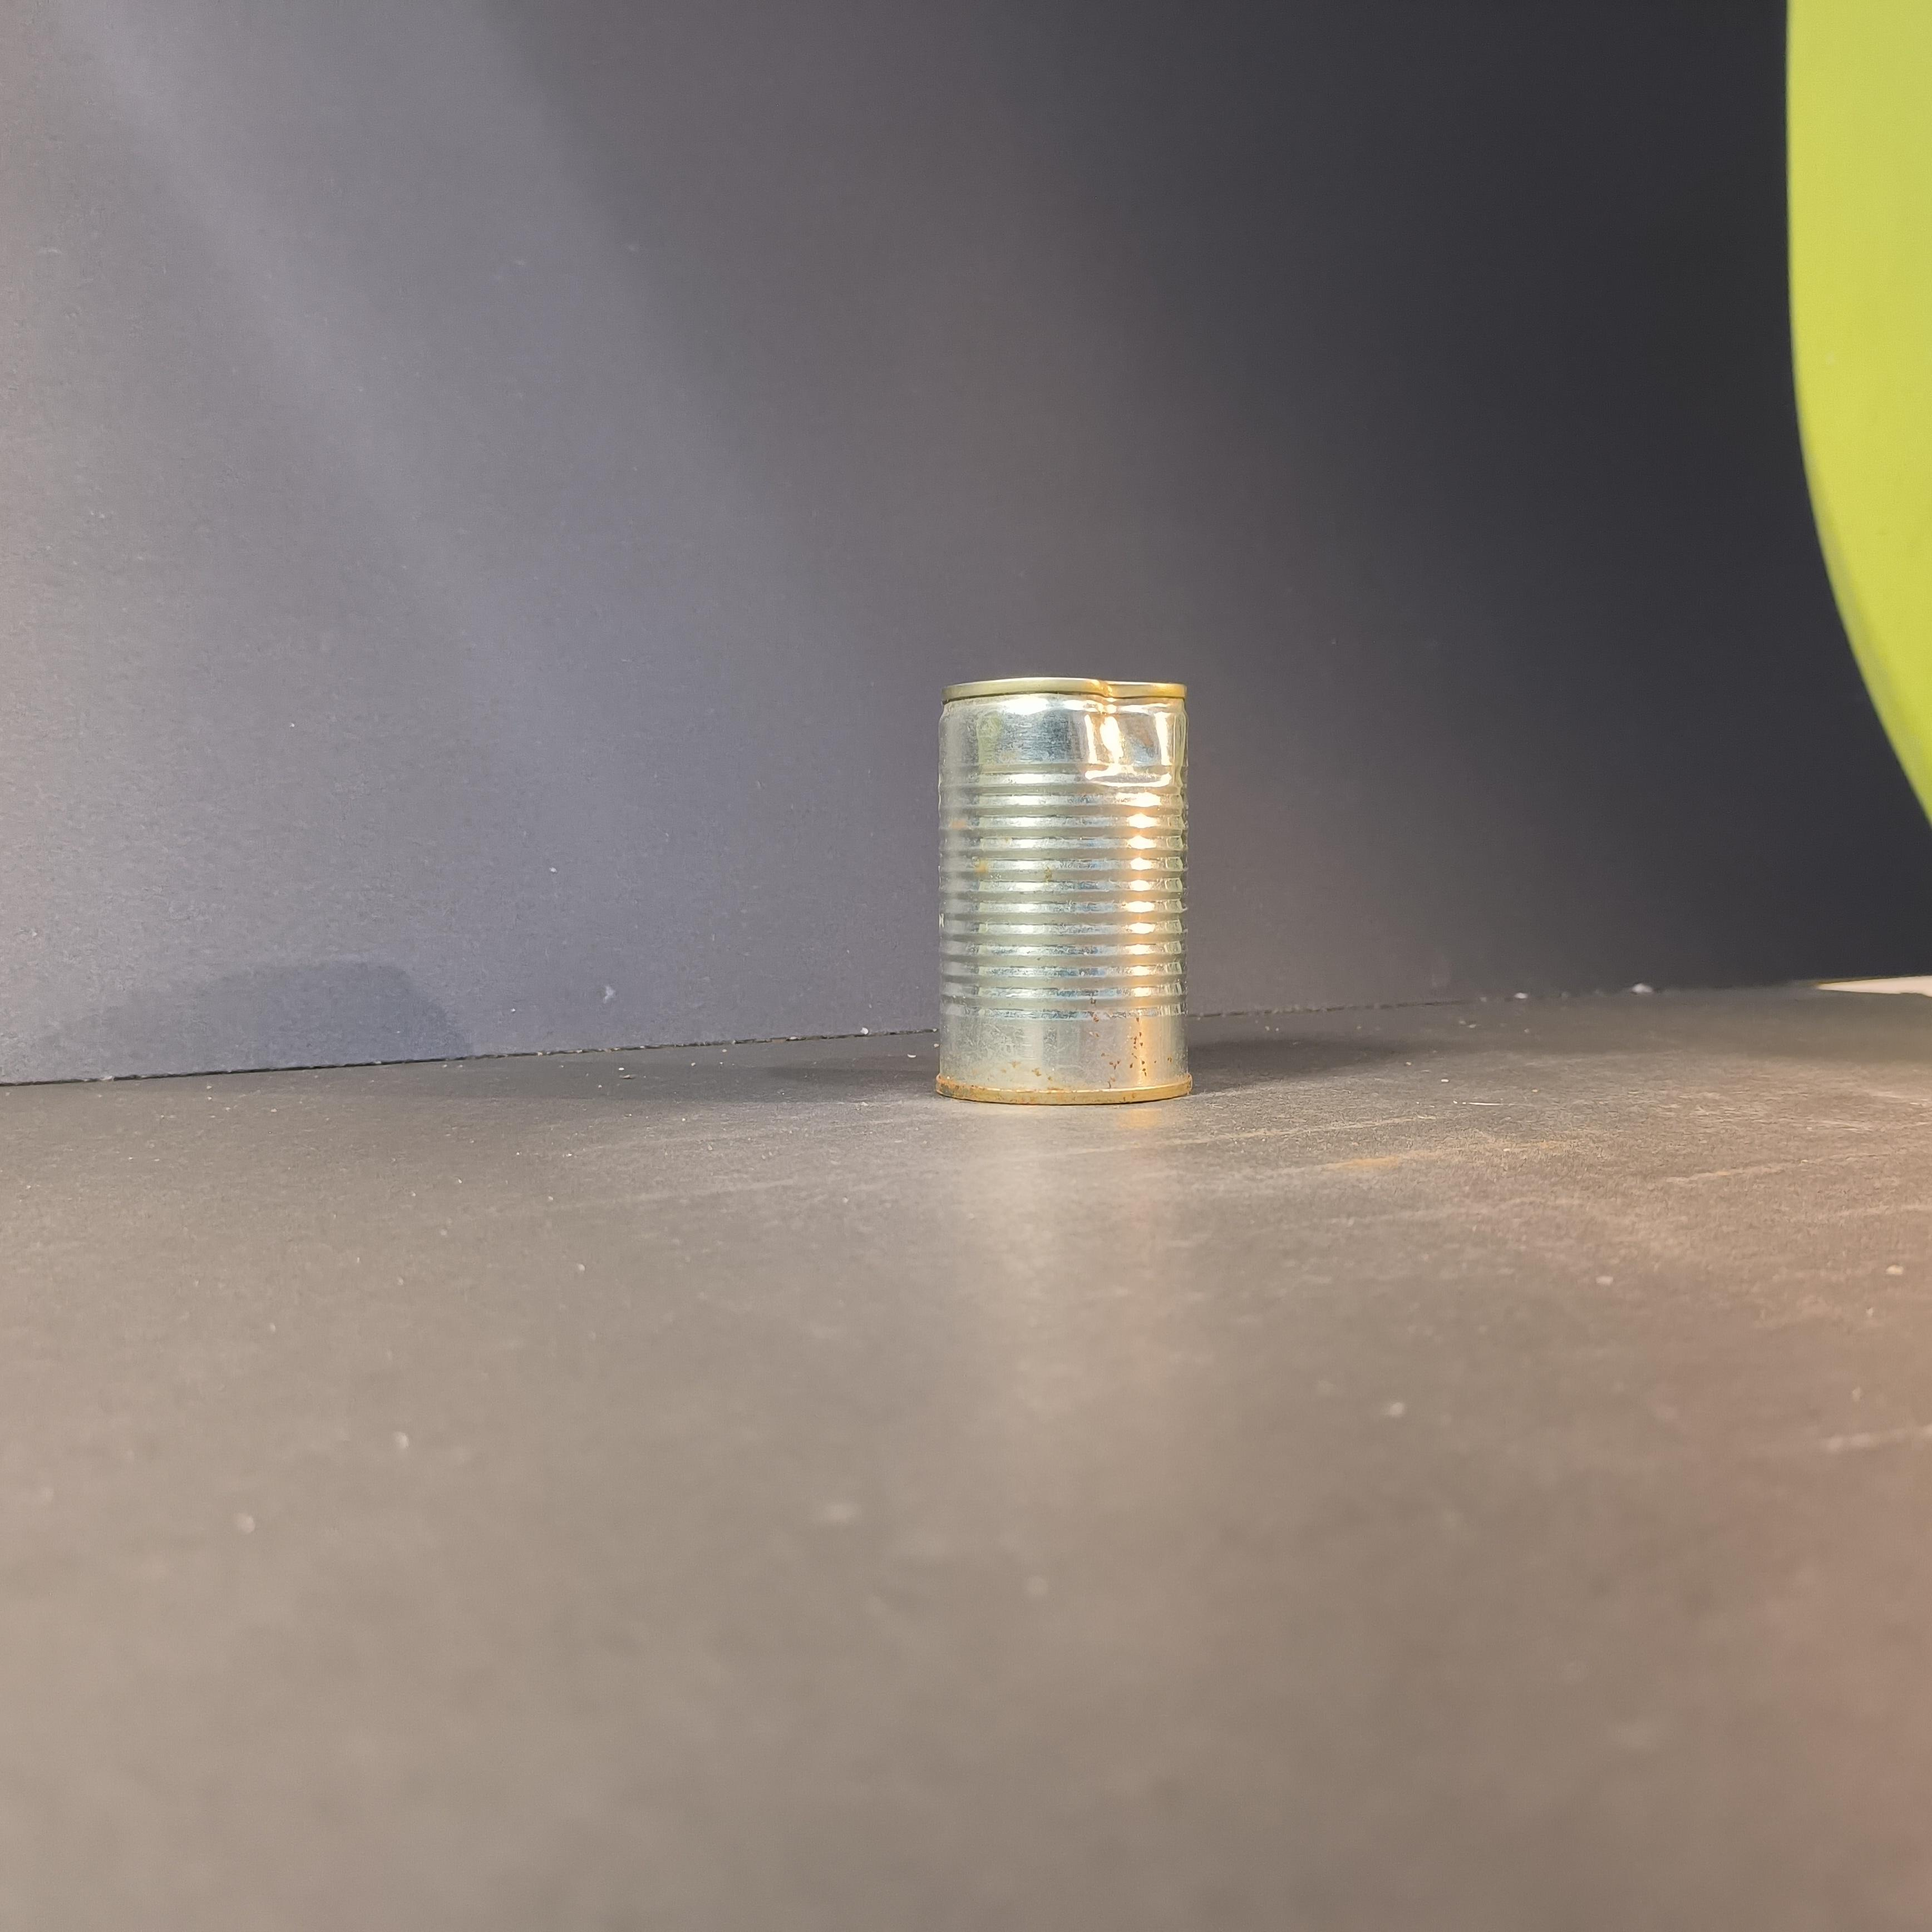Dented: (913, 655, 1201, 1104)
